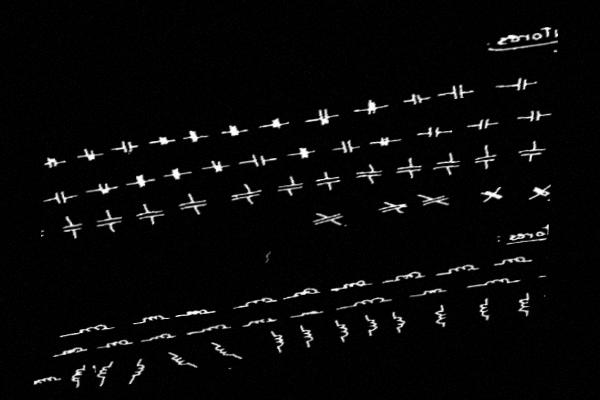capacitor: (91, 210, 127, 233), (131, 204, 169, 225), (175, 194, 212, 215), (228, 185, 265, 205), (244, 149, 274, 171), (515, 142, 549, 161), (44, 187, 74, 208), (352, 165, 387, 183), (309, 211, 348, 227), (445, 81, 473, 103), (431, 156, 465, 174), (273, 177, 305, 196), (312, 105, 337, 129), (333, 136, 360, 158), (89, 179, 118, 199), (418, 123, 448, 142), (59, 218, 87, 238), (375, 200, 412, 215), (359, 97, 385, 118), (508, 74, 535, 94), (129, 171, 154, 192), (471, 151, 501, 168), (312, 173, 342, 190), (165, 164, 189, 185), (291, 143, 317, 162), (520, 107, 547, 125), (394, 161, 424, 177), (204, 157, 229, 176), (184, 126, 207, 146), (223, 121, 247, 140), (78, 145, 103, 163), (406, 89, 429, 108), (419, 193, 452, 206), (478, 187, 506, 202), (266, 114, 288, 133), (115, 137, 138, 155), (472, 116, 495, 133), (153, 132, 174, 150), (373, 134, 397, 149), (529, 184, 551, 200), (44, 154, 62, 169), (41, 226, 48, 242)
inductor: (475, 275, 517, 289), (495, 253, 531, 269), (75, 321, 113, 336), (346, 295, 389, 308), (513, 294, 536, 316), (214, 340, 239, 360), (169, 350, 195, 369), (442, 262, 477, 276), (94, 362, 116, 384), (67, 365, 90, 386), (387, 312, 409, 333), (296, 324, 317, 346), (389, 270, 424, 283), (101, 338, 133, 352), (128, 360, 149, 381), (474, 299, 494, 321), (332, 319, 352, 341), (197, 322, 230, 335), (57, 344, 87, 358), (430, 307, 451, 327), (179, 306, 211, 319), (242, 296, 276, 308), (288, 286, 319, 299), (137, 312, 168, 325), (338, 278, 371, 290), (268, 330, 286, 352), (362, 316, 381, 336), (145, 331, 175, 343), (245, 315, 274, 327), (34, 374, 61, 386), (418, 286, 445, 298), (296, 308, 321, 319)
